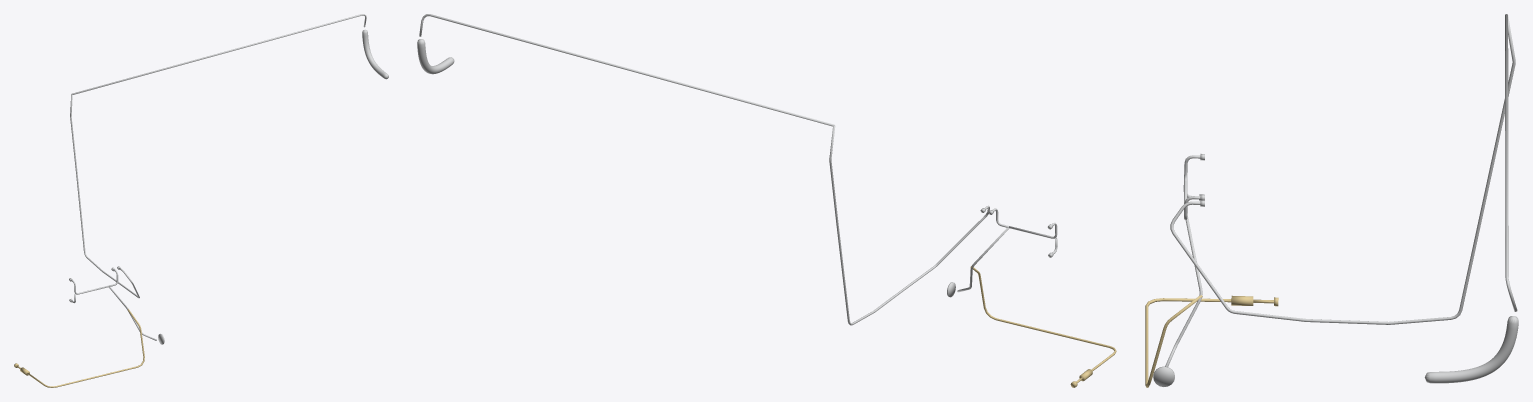
The model's file is PITOT_STATIC.glb.
3 views of the same model, side by side, from view 1: azimuth 30°, elevation 25°; view 2: azimuth 150°, elevation 25°; view 3: azimuth 270°, elevation 25° (orthographic). The views are drawn at different scales.
Parts seen in each view (by area): view 1: WING_L.pitot_line, PITOT_STATIC.pitot_line, PITOT_STATIC.alternate_static_valve, PITOT_STATIC.static_line, PITOT_STATIC.pitot_tube; view 2: WING_L.pitot_line, PITOT_STATIC.pitot_line, PITOT_STATIC.alternate_static_valve, PITOT_STATIC.static_line; view 3: PITOT_STATIC.pitot_line, PITOT_STATIC.pitot_tube, PITOT_STATIC.alternate_static_valve, WING_L.pitot_line, PITOT_STATIC.static_line, PITOT_STATIC.static_port.
Boxes of the visible parts, x1=… form: WING_L.pitot_line: x1=72, y1=14, x2=366, y2=94; PITOT_STATIC.pitot_line: x1=70, y1=94, x2=139, y2=298; PITOT_STATIC.alternate_static_valve: x1=14, y1=309, x2=144, y2=387; PITOT_STATIC.static_line: x1=69, y1=267, x2=156, y2=340; PITOT_STATIC.pitot_tube: x1=362, y1=29, x2=388, y2=79; WING_L.pitot_line: x1=419, y1=14, x2=834, y2=126; PITOT_STATIC.pitot_line: x1=829, y1=125, x2=989, y2=325; PITOT_STATIC.alternate_static_valve: x1=970, y1=266, x2=1116, y2=387; PITOT_STATIC.static_line: x1=957, y1=208, x2=1057, y2=292; PITOT_STATIC.pitot_line: x1=1170, y1=15, x2=1515, y2=324; PITOT_STATIC.pitot_tube: x1=1424, y1=316, x2=1518, y2=383; PITOT_STATIC.alternate_static_valve: x1=1145, y1=295, x2=1278, y2=387; WING_L.pitot_line: x1=1505, y1=14, x2=1517, y2=311; PITOT_STATIC.static_line: x1=1165, y1=154, x2=1204, y2=366; PITOT_STATIC.static_port: x1=1153, y1=366, x2=1174, y2=386.
Size of the model in its own units: 1.72 by 0.8459 by 0.6842.
